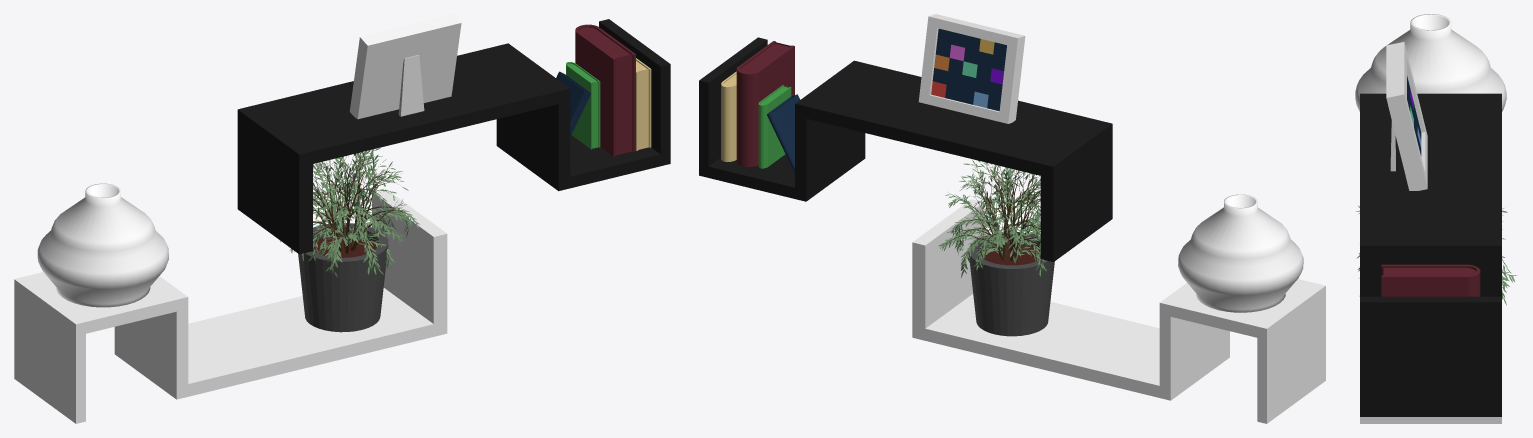
The model's file is polka2.fbx.
3 views of the same model, side by side, from view 1: azimuth 30°, elevation 25°; view 2: azimuth 150°, elevation 25°; view 3: azimuth 270°, elevation 25° (orthographic). The views are drawn at different scales.
Visible parts, largest first — view 1: Cube, Cube.001, Cylinder.001, Cube.002, Cylinder, leaves, Cylinder.002, tree, Cylinder.003, Cylinder.004, Cube.003, Cylinder.005; view 2: Cube, Cube.001, Cylinder.001, Cube.002, Cylinder, leaves, Cylinder.002, tree, Cylinder.003, Cylinder.004, Cylinder.005; view 3: Cube.001, Cylinder.001, Cube.002, Cylinder.002, Cube, leaves, Cube.003.
Boxes of the visible parts, x1,y1,x2,y2 form: Cube: (14, 188, 447, 423); Cube.001: (237, 19, 670, 254); Cylinder.001: (37, 183, 168, 307); Cube.002: (349, 14, 461, 119); Cylinder: (298, 223, 388, 332); leaves: (280, 148, 419, 277); Cylinder.002: (575, 24, 635, 156); tree: (313, 150, 408, 270); Cylinder.003: (566, 62, 600, 149); Cylinder.004: (636, 58, 651, 150); Cube.003: (398, 55, 424, 116); Cylinder.005: (556, 71, 591, 136); Cube: (912, 199, 1325, 423); Cube.001: (699, 37, 1112, 261); Cylinder.001: (1178, 194, 1303, 312); Cube.002: (918, 14, 1025, 123); Cylinder: (968, 233, 1054, 336); leaves: (938, 160, 1065, 277); Cylinder.002: (736, 41, 794, 166); tree: (949, 164, 1042, 265); Cylinder.003: (758, 85, 791, 168); Cylinder.004: (721, 71, 736, 161); Cylinder.005: (767, 94, 800, 173); Cube.001: (1360, 93, 1501, 416); Cylinder.001: (1355, 14, 1506, 111); Cube.002: (1386, 42, 1427, 190); Cylinder.002: (1381, 264, 1480, 296); Cube: (1360, 417, 1501, 423); leaves: (1356, 205, 1517, 305); Cube.003: (1390, 120, 1395, 171).
Bounding box in the file's own units: 1111 × 534 × 231.
